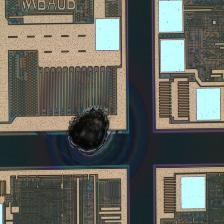PARTICLE: (59, 99, 123, 163)
